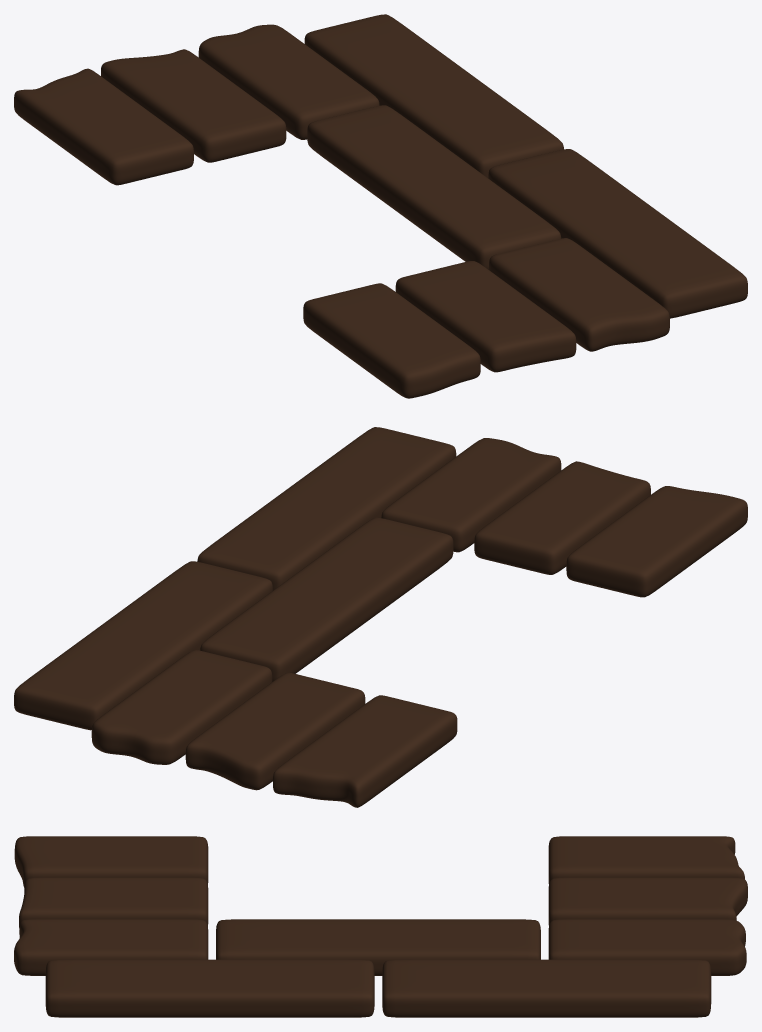
Rendered from floor_tiles.obj.
3 views of the same model, one above another, from view 1: azimuth 30°, elevation 25°; view 2: azimuth 150°, elevation 25°; view 3: azimuth 270°, elevation 25° (orthographic). The views are drawn at different scales.
Visible parts, largest first — view 1: two_tiles, one_tile, side_tile_1, side_tile_2, side_tile_4, side_tile_5, side_tile_3, side_tile_6; view 2: two_tiles, one_tile, side_tile_1, side_tile_2, side_tile_6, side_tile_4, side_tile_3, side_tile_5; view 3: two_tiles, one_tile, side_tile_6, side_tile_4, side_tile_5, side_tile_1, side_tile_3, side_tile_2.
Part boxes in pixels (left/top/right/bottom): two_tiles: left=304, top=14, right=747, bottom=318; one_tile: left=307, top=105, right=561, bottom=269; side_tile_1: left=303, top=283, right=480, bottom=398; side_tile_2: left=14, top=68, right=193, bottom=185; side_tile_4: left=101, top=49, right=286, bottom=162; side_tile_5: left=489, top=238, right=669, bottom=351; side_tile_3: left=395, top=261, right=576, bottom=372; side_tile_6: left=198, top=24, right=379, bottom=139; two_tiles: left=14, top=427, right=456, bottom=730; one_tile: left=200, top=517, right=453, bottom=681; side_tile_1: left=566, top=486, right=747, bottom=597; side_tile_2: left=273, top=695, right=457, bottom=807; side_tile_6: left=91, top=650, right=272, bottom=764; side_tile_4: left=185, top=672, right=365, bottom=790; side_tile_3: left=474, top=461, right=650, bottom=574; side_tile_5: left=381, top=438, right=561, bottom=552; two_tiles: left=45, top=959, right=711, bottom=1017; one_tile: left=216, top=919, right=540, bottom=975; side_tile_6: left=548, top=919, right=746, bottom=975; side_tile_4: left=548, top=877, right=747, bottom=925; side_tile_5: left=14, top=919, right=208, bottom=975; side_tile_1: left=14, top=836, right=208, bottom=887; side_tile_3: left=19, top=877, right=208, bottom=928; side_tile_2: left=548, top=836, right=744, bottom=883.
Size of the model in its own units: 2.57 by 0.1853 by 4.92.
